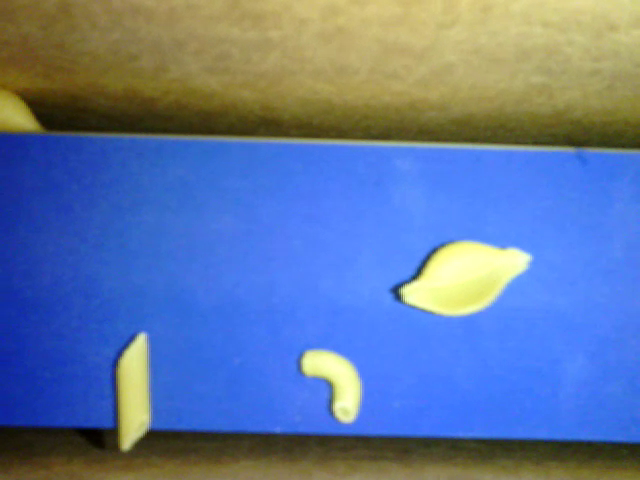elbow: (300, 347, 361, 421)
penne: (117, 330, 151, 452)
shell: (399, 239, 533, 317)
